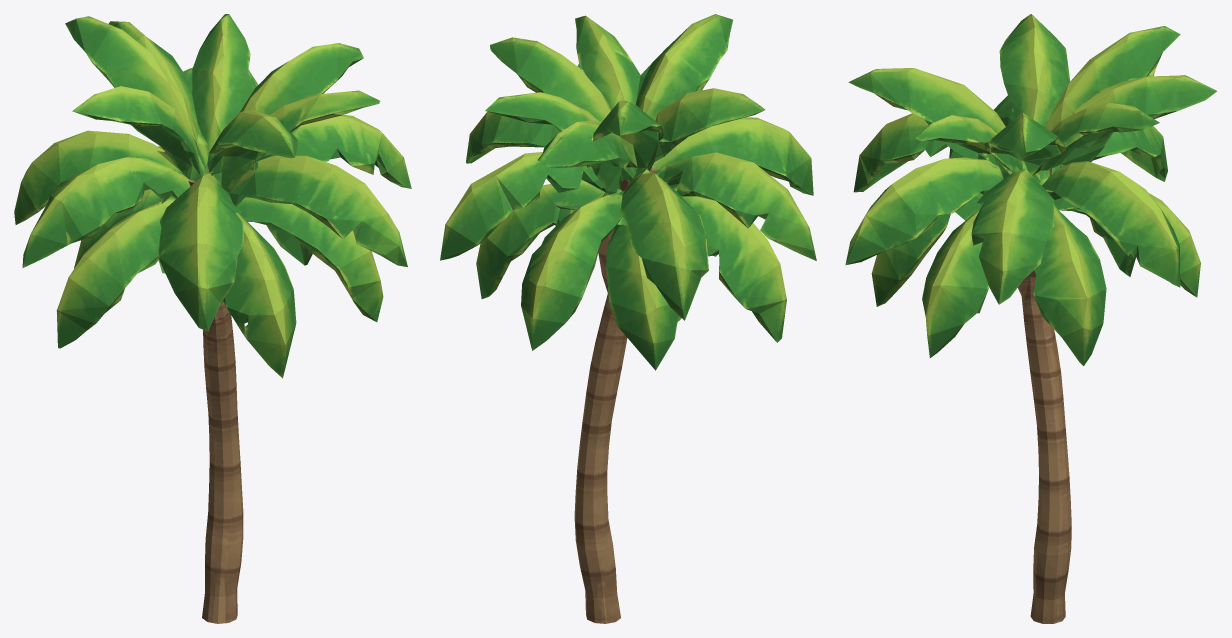
Rendered from palm_b.glb.
The picture shows the model from 3 angles, left to right: view 1: azimuth 30°, elevation 25°; view 2: azimuth 150°, elevation 25°; view 3: azimuth 270°, elevation 25°; orthographic projection. The views are drawn at different scales.
Parts seen in each view (by area): view 1: body; view 2: body; view 3: body.
Part boxes in pixels (bbox=[...]): body: bbox=[14, 14, 411, 623]; body: bbox=[440, 14, 816, 623]; body: bbox=[845, 14, 1216, 623].
Bounding box in the file's own units: 4.43 × 6.52 × 3.97.
2 materials, 2 textured.
